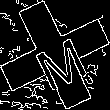M_NW: (23, 22, 87, 88)
